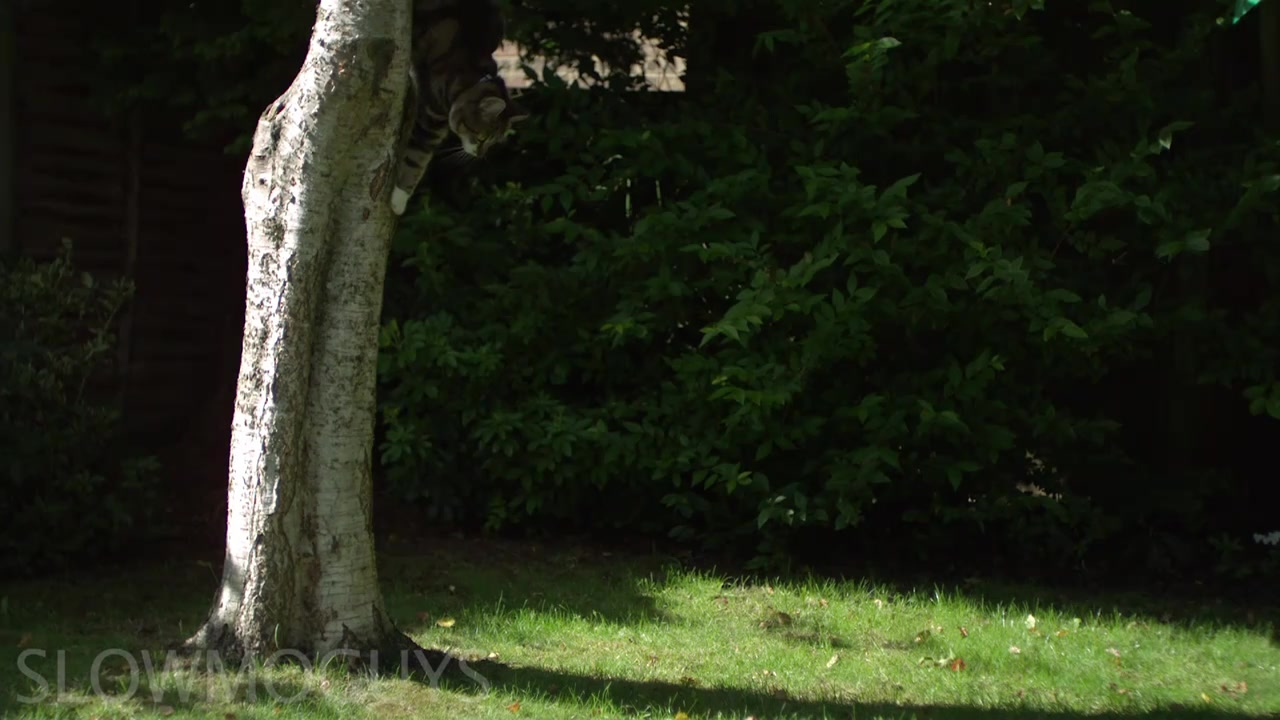cat: (388, 3, 517, 218)
